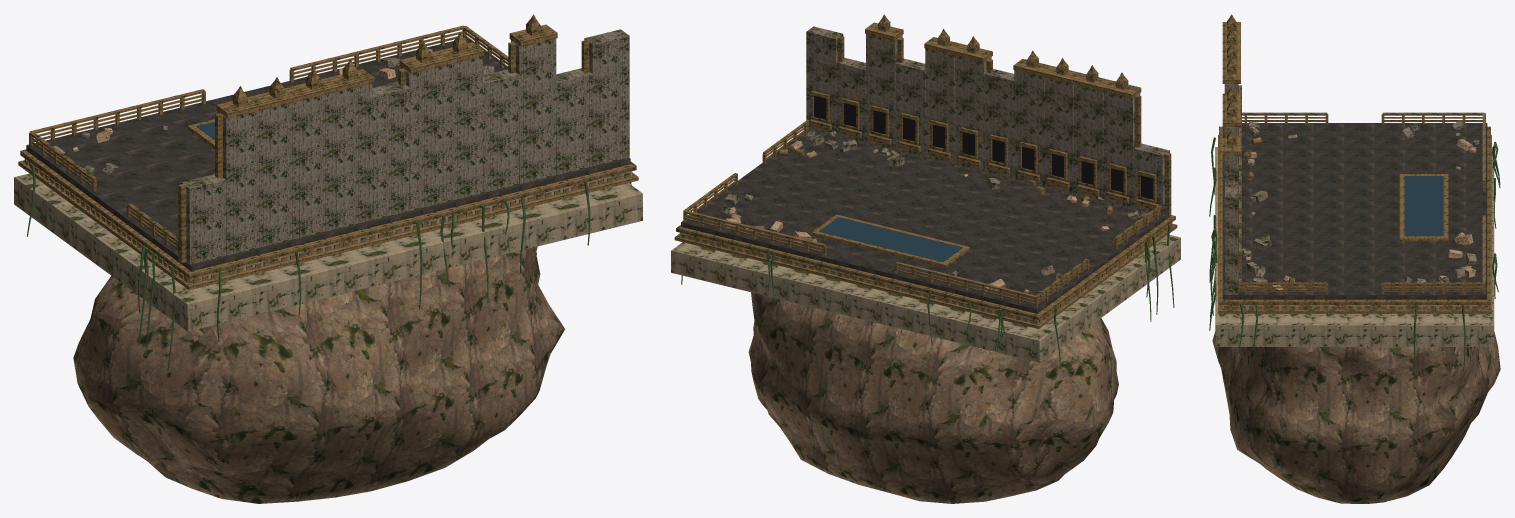
The model's file is Room_Sanctum.fbx.
The picture shows the model from 3 angles, left to right: view 1: azimuth 30°, elevation 25°; view 2: azimuth 150°, elevation 25°; view 3: azimuth 270°, elevation 25°; orthographic projection. The views are drawn at different scales.
Visible parts, largest first — view 1: Sanctum_Structure_LOD0, Sanctum_Rock_LOD0; view 2: Sanctum_Structure_LOD0, Sanctum_Rock_LOD0, Sanctum_Pool; view 3: Sanctum_Structure_LOD0, Sanctum_Rock_LOD0, Sanctum_Pool.
Part boxes in pixels (left/top/right/bottom): Sanctum_Structure_LOD0: left=14, top=14, right=642, bottom=370; Sanctum_Rock_LOD0: left=73, top=246, right=564, bottom=503; Sanctum_Structure_LOD0: left=671, top=14, right=1180, bottom=365; Sanctum_Rock_LOD0: left=748, top=292, right=1118, bottom=503; Sanctum_Pool: left=811, top=214, right=970, bottom=267; Sanctum_Structure_LOD0: left=1209, top=14, right=1500, bottom=373; Sanctum_Rock_LOD0: left=1212, top=331, right=1500, bottom=503; Sanctum_Pool: left=1399, top=174, right=1448, bottom=241.
Size of what is drawn, in the model's own units: 42.56 by 42.14 by 28.61.
